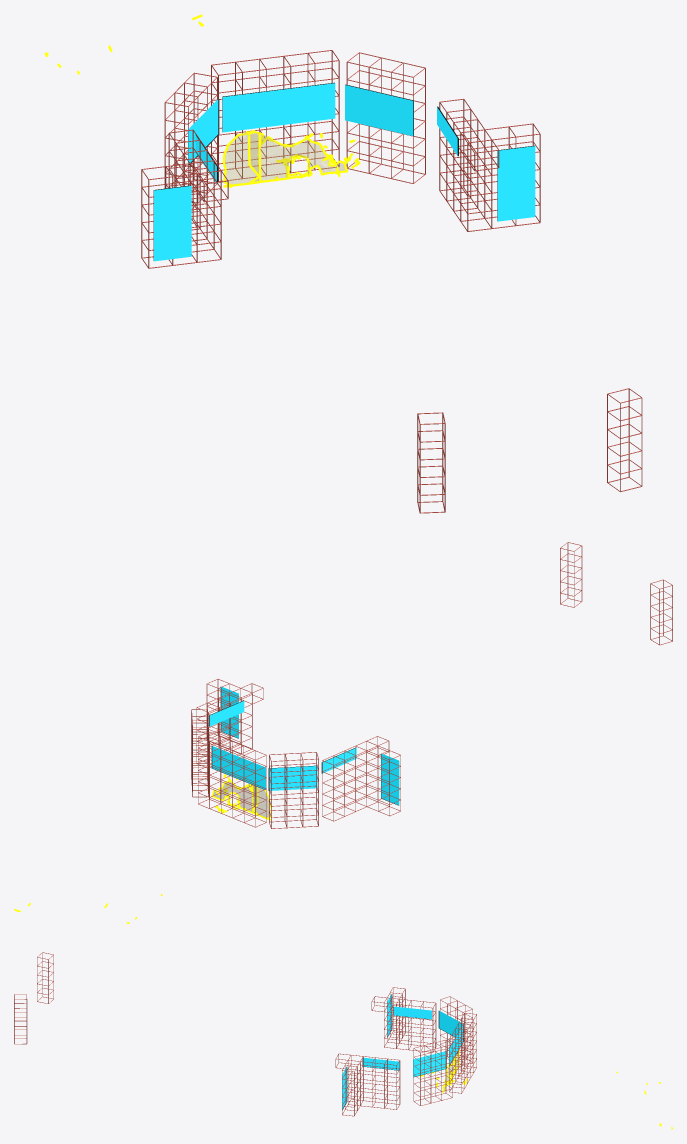
Rendered from FNT2026_AR_layout_op03_1a50.glb.
3 views of the same model, one above another, from view 1: azimuth 30°, elevation 25°; view 2: azimuth 150°, elevation 25°; view 3: azimuth 270°, elevation 25° (orthographic). The views are drawn at different scales.
Visible parts, largest first — view 1: pantalla 8 006.001, Guitarra_escenario, pantalla 8 4.001, pantalla 8 005.001, pantalla 8 007.001, Guitarra_contorno.001, pantalla 8 3.001; view 2: pantalla 8 006.001, pantalla 8 3.001, pantalla 8 4.001, Guitarra_escenario, Guitarra_contorno.001, pantalla 8 005.001; view 3: pantalla 8 007.001, pantalla 8 3.001, pantalla 8 008.001, pantalla 8 009.001, Guitarra_contorno.001.
Boxes of the visible parts, left/top/right/bottom form: pantalla 8 006.001: left=222, top=82, right=335, bottom=132; Guitarra_escenario: left=225, top=132, right=345, bottom=184; pantalla 8 4.001: left=153, top=185, right=191, bottom=261; pantalla 8 005.001: left=497, top=145, right=535, bottom=221; pantalla 8 007.001: left=345, top=84, right=413, bottom=136; Guitarra_contorno.001: left=45, top=14, right=360, bottom=187; pantalla 8 3.001: left=188, top=99, right=219, bottom=164; pantalla 8 006.001: left=211, top=746, right=265, bottom=789; pantalla 8 3.001: left=268, top=765, right=317, bottom=790; pantalla 8 4.001: left=381, top=753, right=399, bottom=805; Guitarra_escenario: left=213, top=782, right=268, bottom=817; Guitarra_contorno.001: left=14, top=774, right=270, bottom=923; pantalla 8 005.001: left=220, top=686, right=238, bottom=738; pantalla 8 007.001: left=413, top=1051, right=446, bottom=1077; pantalla 8 3.001: left=438, top=1010, right=462, bottom=1036; pantalla 8 008.001: left=393, top=1006, right=431, bottom=1019; pantalla 8 009.001: left=362, top=1057, right=399, bottom=1070; Guitarra_contorno.001: left=419, top=1049, right=672, bottom=1129.
Size of the model in its own units: 1.01 by 0.3497 by 2.7.
